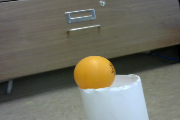PingPongBall: (75, 56, 115, 90)
